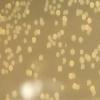white: (72, 82, 80, 91), (52, 91, 60, 100), (62, 16, 68, 27), (25, 68, 32, 77), (61, 56, 67, 66), (86, 26, 92, 36), (4, 47, 12, 54), (15, 25, 23, 32), (0, 14, 7, 22), (75, 9, 83, 16), (39, 54, 45, 63), (70, 34, 76, 43), (24, 6, 30, 15), (27, 46, 34, 53), (34, 29, 41, 36), (69, 59, 75, 67), (68, 73, 76, 79), (3, 60, 9, 68), (16, 46, 22, 54), (24, 0, 32, 6), (31, 37, 37, 44), (45, 42, 51, 49), (78, 37, 84, 44), (79, 57, 85, 64), (80, 64, 86, 71), (11, 90, 17, 97), (1, 69, 8, 75), (55, 10, 61, 17), (78, 0, 85, 6), (40, 17, 44, 27), (91, 62, 96, 70), (94, 54, 99, 62), (19, 54, 23, 64), (0, 27, 5, 35), (95, 0, 100, 8), (54, 20, 60, 26), (58, 65, 62, 74), (79, 49, 85, 55), (6, 23, 12, 29), (20, 0, 26, 6), (16, 13, 22, 19), (16, 6, 22, 12), (62, 9, 68, 15), (86, 18, 92, 24), (90, 90, 96, 96), (58, 41, 63, 48), (60, 49, 65, 56), (70, 48, 75, 55), (86, 80, 91, 87), (31, 63, 36, 70), (8, 65, 13, 72), (7, 2, 12, 9), (52, 39, 56, 47), (45, 0, 49, 8), (81, 24, 85, 32), (25, 30, 30, 36), (60, 29, 65, 35), (6, 94, 11, 100), (40, 94, 45, 100), (44, 94, 49, 100), (6, 56, 12, 61), (13, 34, 18, 40), (7, 15, 12, 21), (68, 0, 73, 6), (95, 8, 100, 14), (85, 0, 90, 6), (84, 24, 89, 30), (90, 86, 95, 92), (57, 31, 61, 38), (48, 35, 52, 42), (65, 41, 69, 48), (55, 52, 59, 59), (87, 55, 91, 62), (92, 52, 96, 59), (4, 39, 8, 46), (27, 24, 31, 31), (15, 1, 19, 8), (90, 2, 94, 9), (94, 50, 99, 55), (5, 29, 10, 34), (15, 29, 20, 34), (50, 11, 55, 16), (34, 20, 38, 26), (53, 34, 57, 40), (97, 43, 100, 51), (49, 96, 55, 100), (22, 22, 26, 28), (4, 3, 8, 9), (22, 12, 26, 18), (49, 4, 53, 10), (82, 14, 86, 20), (84, 54, 88, 59), (60, 85, 64, 90), (34, 74, 39, 78), (11, 61, 15, 66), (8, 36, 12, 41), (9, 53, 14, 57), (5, 11, 9, 16), (11, 0, 16, 4), (10, 12, 15, 16), (44, 8, 49, 12), (58, 4, 62, 9), (52, 0, 57, 4), (84, 12, 88, 17), (53, 77, 56, 83), (59, 0, 65, 3), (14, 20, 18, 24), (73, 0, 77, 4), (24, 38, 27, 43), (13, 8, 16, 13), (98, 70, 100, 77), (0, 53, 2, 60), (12, 29, 15, 33), (1, 9, 4, 13), (54, 7, 57, 10)
